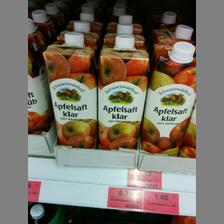Saft: (41, 31, 97, 149), (96, 34, 150, 150), (139, 42, 194, 154)
